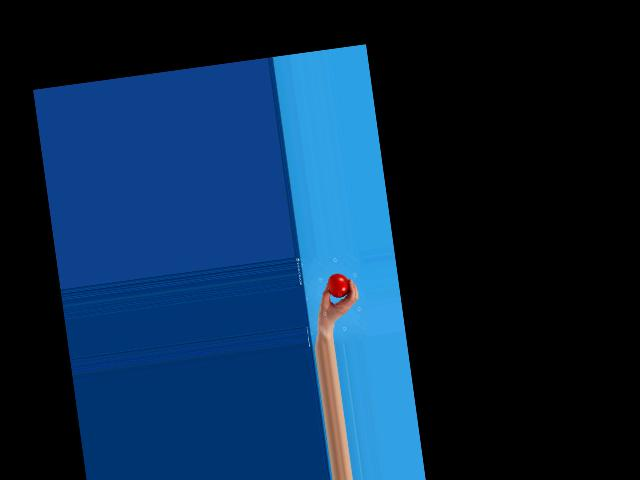tomato: (326, 272, 350, 299)
